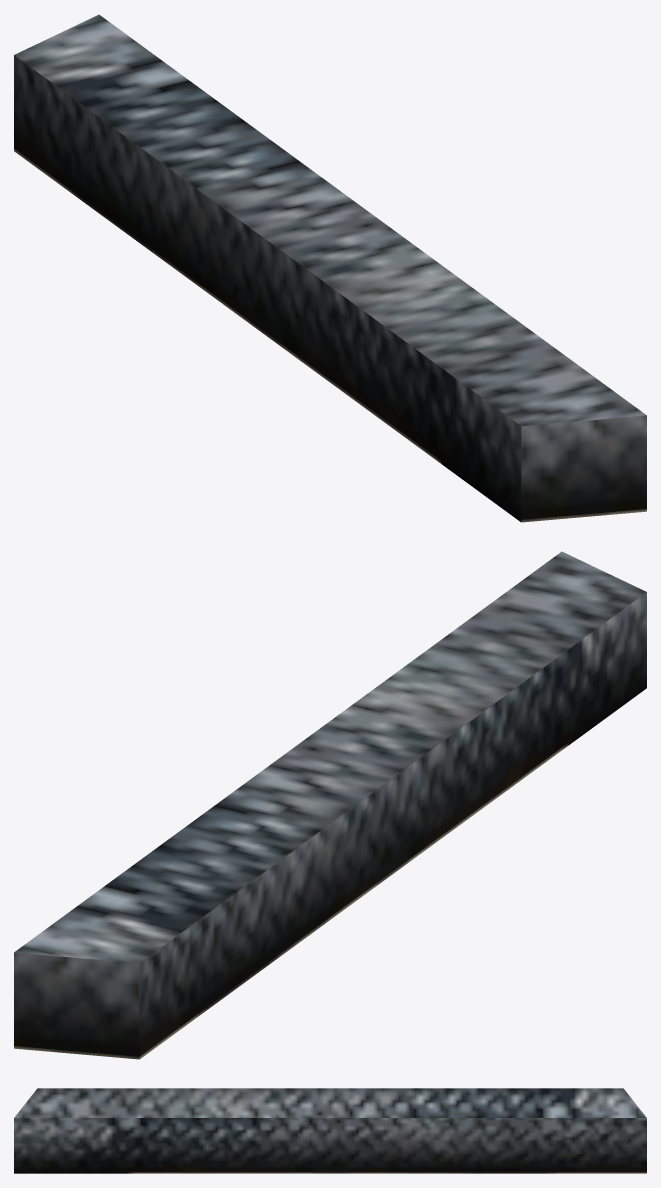
Rendered from GLA - Ground Vehicles - Technical - Damage State 2 - UVTechTrck_d2.glb.
3 views of the same model, one above another, from view 1: azimuth 30°, elevation 25°; view 2: azimuth 150°, elevation 25°; view 3: azimuth 270°, elevation 25° (orthographic). The views are drawn at different scales.
Visible parts, largest first — view 1: UVTECHTRCK_D2; view 2: UVTECHTRCK_D2; view 3: UVTECHTRCK_D2.
Part boxes in pixels (x1=…): UVTECHTRCK_D2: x1=14, y1=14, x2=646, y2=522; UVTECHTRCK_D2: x1=14, y1=551, x2=646, y2=1059; UVTECHTRCK_D2: x1=14, y1=1088, x2=646, y2=1173.
Bounding box in the file's own units: 1.39 × 1.21 × 12.5.
Materials: 1 (1 with a texture image).
